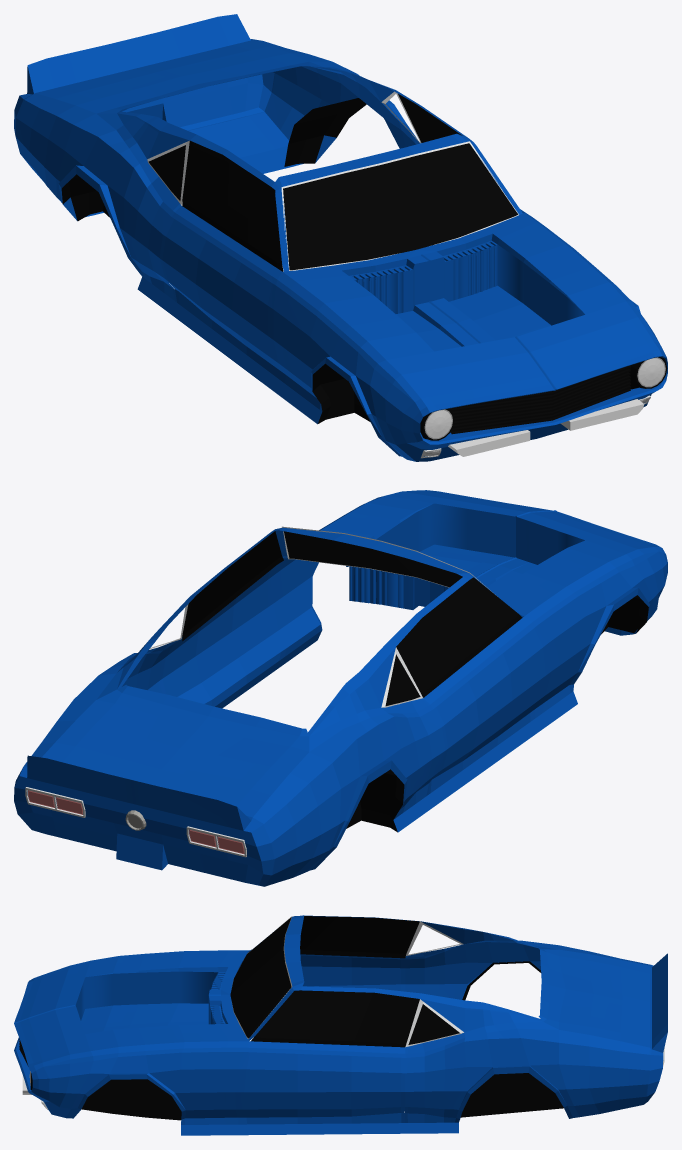
The model's file is unted.fbx.
3 views of the same model, one above another, from view 1: azimuth 30°, elevation 25°; view 2: azimuth 150°, elevation 25°; view 3: azimuth 270°, elevation 25° (orthographic). The views are drawn at different scales.
Parts seen in each view (by area): view 1: Carroceria.001, Parabrisas_Ad, Pueratas, Ventana_1, Rejilla, Plano.002, Faro_2, Ventana_2, Carroceria, Marco_Parabrisad_Ad; view 2: Carroceria.001, Pueratas, Ventana_1, Parabrisas_Ad, Luz_Tr, Ventana_2, Marco_Ventana_2; view 3: Carroceria.001, Pueratas, Ventana_1, Parabrisas_Ad, Ventana_2, Marco_Ventana_2.
Part boxes in pixels (box(x1,y1,x2,y2)): Carroceria.001: box(14, 14, 667, 461); Parabrisas_Ad: box(283, 143, 517, 270); Pueratas: box(159, 206, 530, 375); Ventana_1: box(182, 94, 462, 271); Rejilla: box(450, 365, 630, 434); Plano.002: box(448, 399, 644, 456); Faro_2: box(425, 358, 664, 437); Ventana_2: box(148, 145, 185, 200); Carroceria: box(424, 379, 663, 441); Marco_Parabrisad_Ad: box(281, 141, 518, 270); Carroceria.001: box(14, 490, 667, 886); Pueratas: box(159, 567, 551, 778); Ventana_1: box(182, 531, 522, 697); Parabrisas_Ad: box(284, 531, 462, 587); Luz_Tr: box(25, 787, 246, 857); Ventana_2: box(385, 654, 420, 705); Marco_Ventana_2: box(149, 604, 422, 707); Carroceria.001: box(14, 915, 667, 1135); Pueratas: box(235, 950, 405, 1117); Ventana_1: box(251, 916, 419, 1047); Parabrisas_Ad: box(230, 917, 291, 1038); Ventana_2: box(408, 1004, 459, 1044); Marco_Ventana_2: box(405, 921, 463, 1047).
Size of the model in its own units: 392 by 232 by 985.
